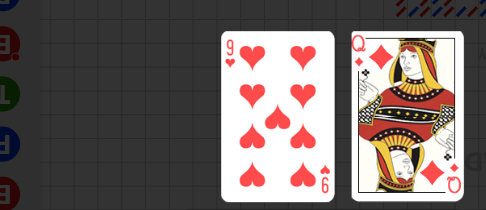9H: (318, 163, 331, 195), (224, 38, 237, 70)
QD: (364, 31, 408, 78), (431, 152, 475, 198)
